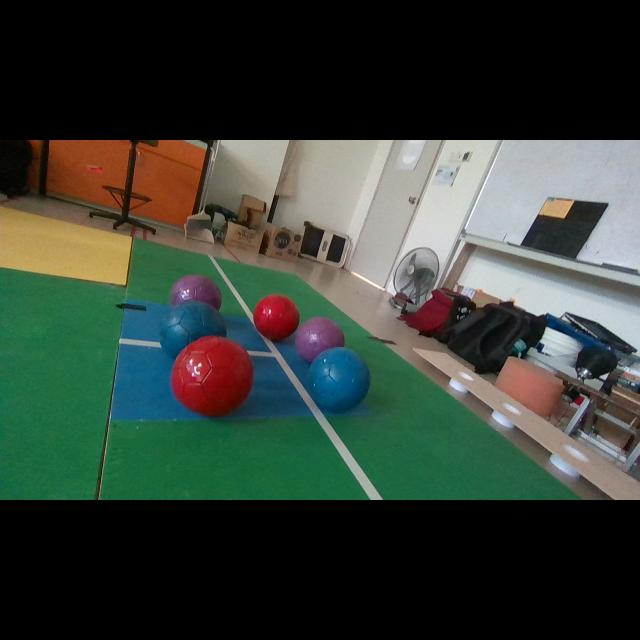B: (308, 348, 370, 413), (160, 300, 226, 358)
P: (296, 316, 345, 363), (169, 275, 221, 310)
R: (171, 335, 254, 416), (254, 294, 300, 341)
